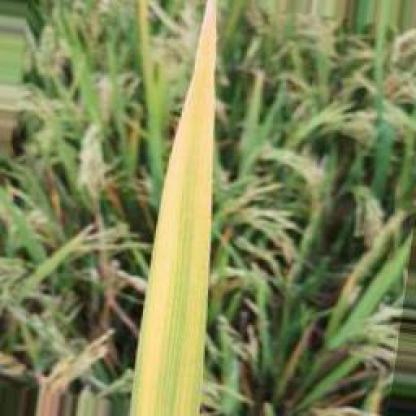Tungro: (126, 1, 214, 414)
